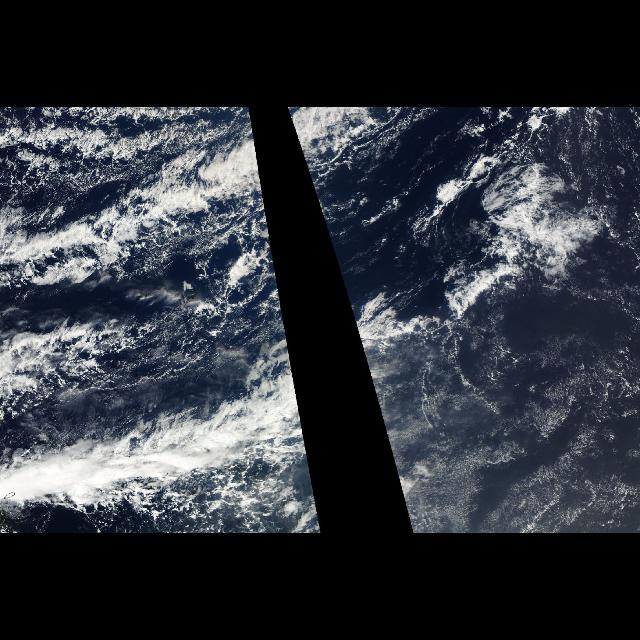Fish: (7, 131, 275, 517)
Sugar: (406, 315, 640, 533)
